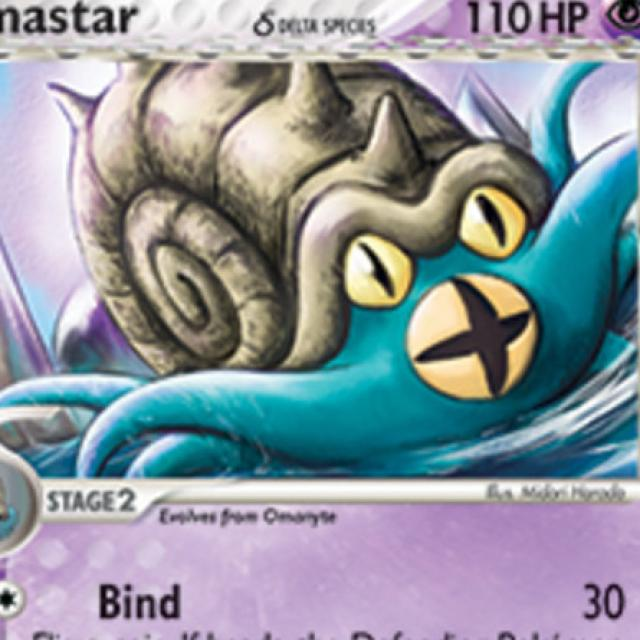Omastar: (60, 64, 598, 451)
